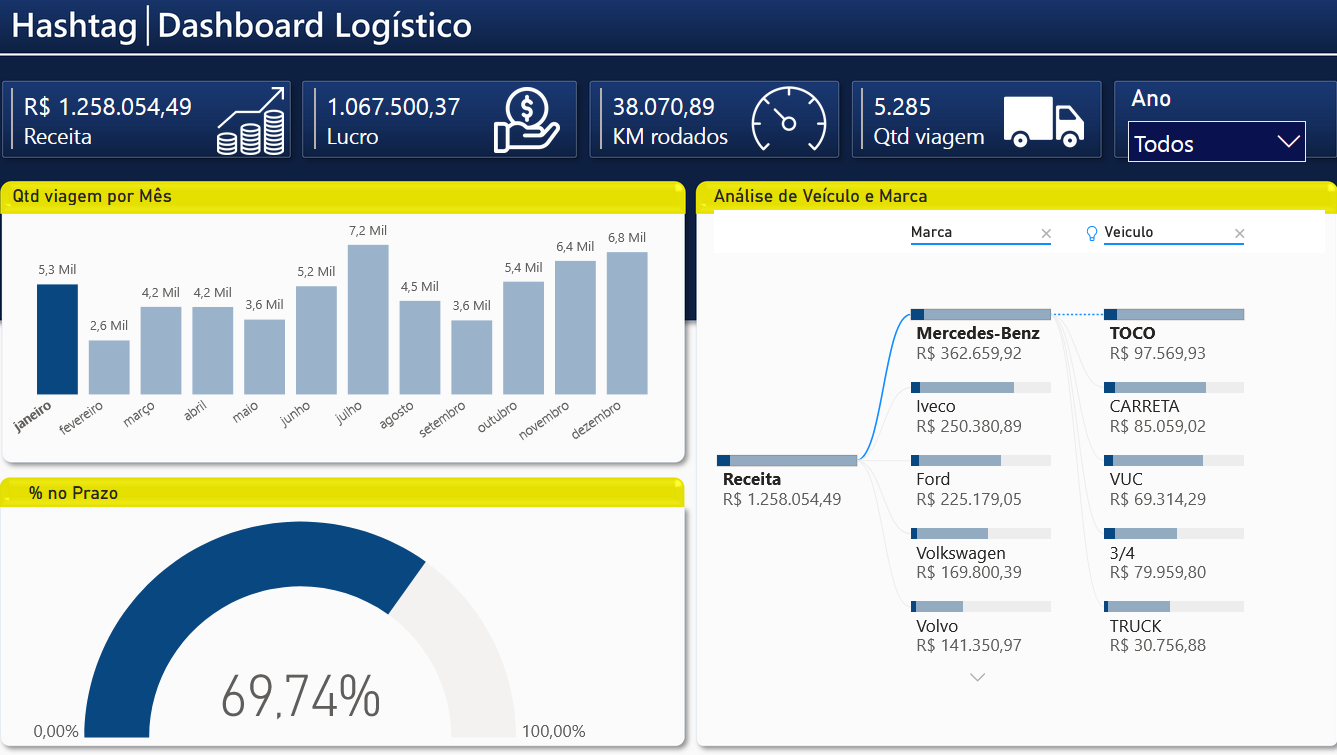

What the dashboard file says about the page in this screenshot:
{"tool":"powerbi","page":{"name":"Página 1","canvas":[1280,720],"ordinal":0},"visuals":[{"type":"multiRowCard","fields":{"Values":["BaseLogistica.Receita"]},"box":[19.1,89.1,303.6,103.6],"z":0},{"type":"multiRowCard","fields":{"Values":["BaseLogistica.lucro"]},"box":[300,89.1,303.6,103.6],"z":1000},{"type":"multiRowCard","fields":{"Values":["BaseLogistica.KM rodados"]},"box":[566.4,89.1,303.6,103.6],"z":2000},{"type":"multiRowCard","fields":{"Values":["BaseLogistica.Qtd viagem"]},"box":[809.1,89.1,303.6,103.6],"z":3000},{"type":"image","box":[167.1,88.6,155.7,72.9],"z":4000},{"type":"image","box":[425.7,88.6,152.9,71.4],"z":5000},{"type":"image","box":[652.9,82.9,187.1,82.9],"z":6000},{"type":"image","box":[900,84.3,165.7,84.3],"z":7000},{"type":"columnChart","fields":{"Y":["BaseLogistica.Qtd viagem"],"Category":["BaseLogistica.Data Entrega.Variation.Hierarquia de datas.Mês"]},"box":[18.9,183.3,621.1,261.1],"z":8000},{"type":"gauge","fields":{"Y":["BaseLogistica.% no Prazo"]},"box":[33.3,460,533.3,260],"z":9000},{"type":"decompositionTreeVisual","title":"Análise de Veículo e Marca","fields":{"Analyze":["BaseLogistica.Receita"],"ExplainBy":["BaseLogistica.Marca","BaseLogistica.Veiculo"]},"box":[671.2,183.8,578.8,497.5],"z":9001},{"type":"slicer","fields":{"Values":["BaseLogistica.Data Entrega.Variation.Hierarquia de datas.Ano"]},"box":[1051.2,83.8,186.2,83.8],"z":9002}]}

Visuals, with their boxes in screenshot pixels (x1, y1, x2, y2), scaled from the page's 1280x720 canvas onto the 1337x755 screenshot:
multiRowCard - BaseLogistica.Receita: (left=20, top=93, right=337, bottom=202)
multiRowCard - BaseLogistica.lucro: (left=313, top=93, right=630, bottom=202)
multiRowCard - BaseLogistica.KM rodados: (left=592, top=93, right=909, bottom=202)
multiRowCard - BaseLogistica.Qtd viagem: (left=845, top=93, right=1162, bottom=202)
image: (left=175, top=93, right=337, bottom=169)
image: (left=445, top=93, right=604, bottom=168)
image: (left=682, top=87, right=877, bottom=174)
image: (left=940, top=88, right=1113, bottom=177)
columnChart - BaseLogistica.Qtd viagem x BaseLogistica.Data Entrega.Variation.Hierarquia de datas.Mês: (left=20, top=192, right=668, bottom=466)
gauge - BaseLogistica.% no Prazo: (left=35, top=482, right=592, bottom=754)
"Análise de Veículo e Marca" decompositionTreeVisual: (left=701, top=193, right=1306, bottom=714)
slicer - BaseLogistica.Data Entrega.Variation.Hierarquia de datas.Ano: (left=1098, top=88, right=1293, bottom=176)
